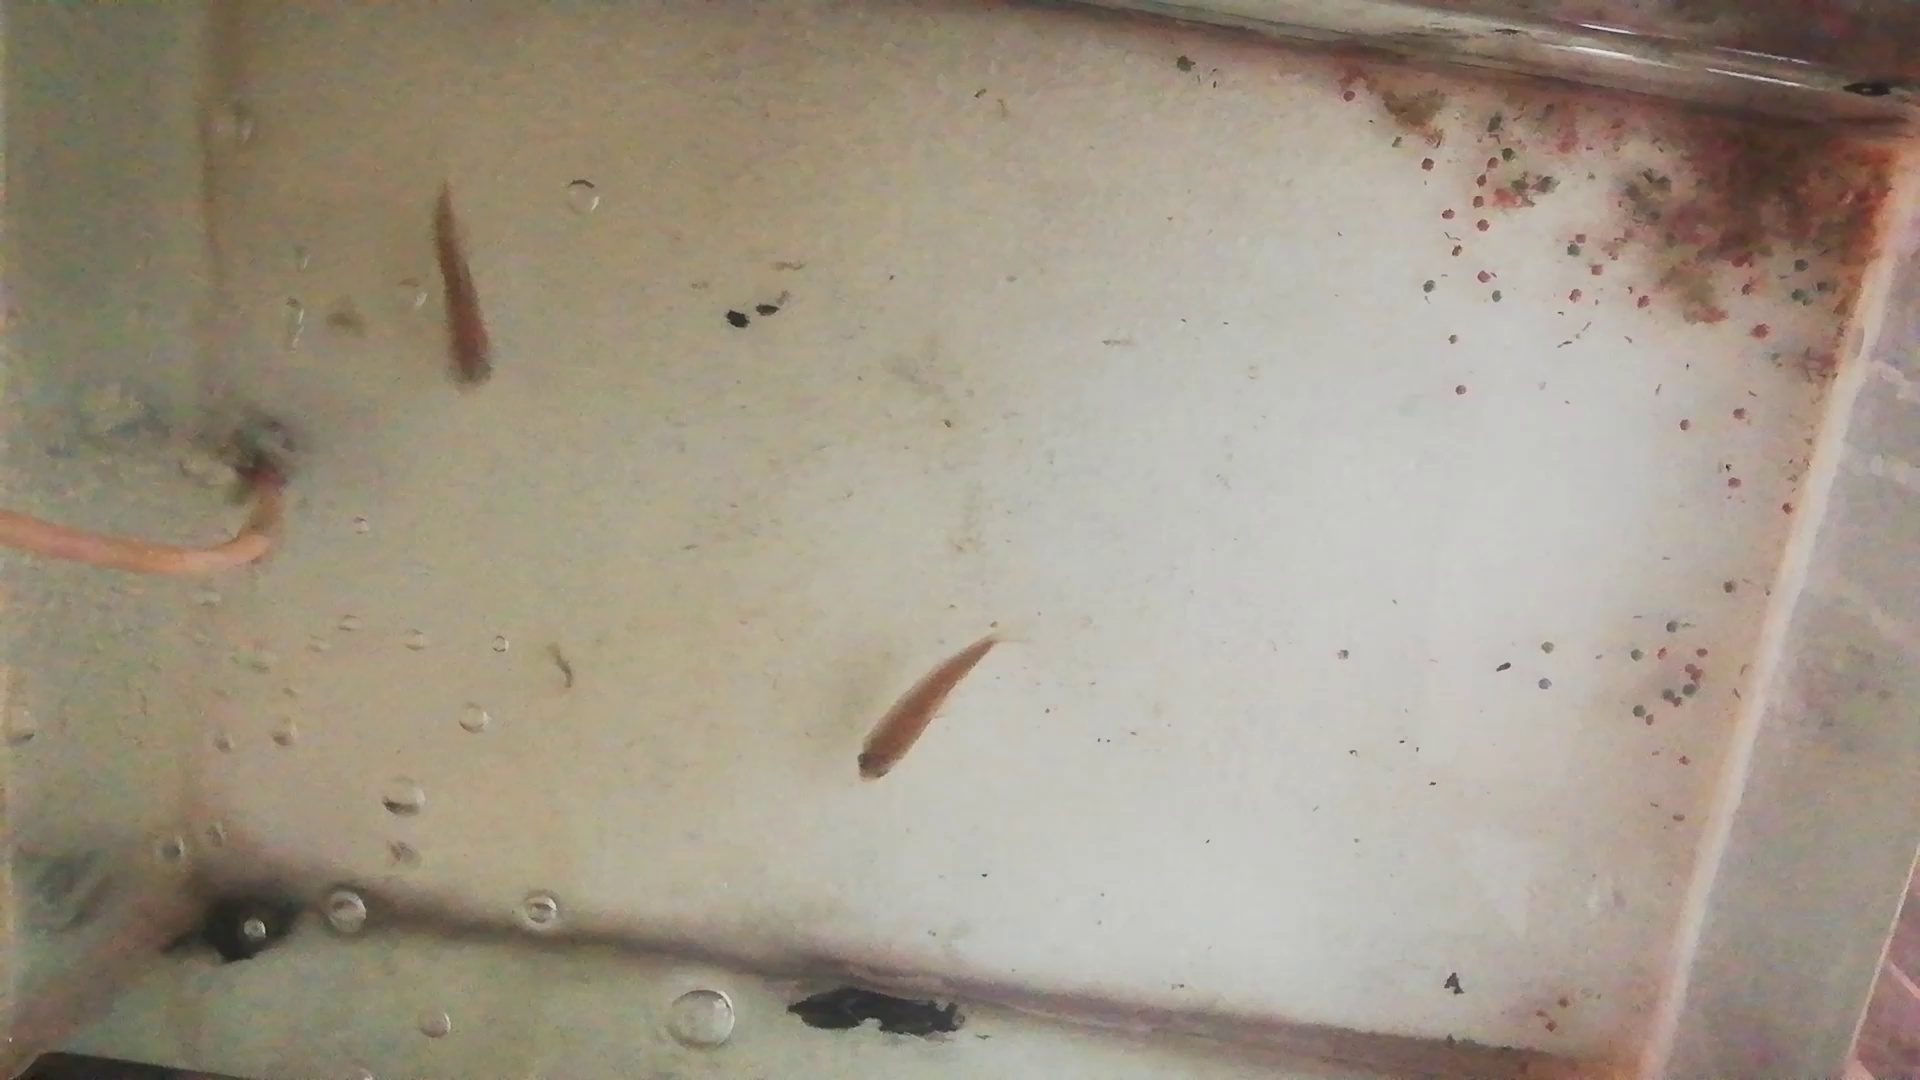fish: (852, 636, 992, 783), (433, 175, 495, 389)
